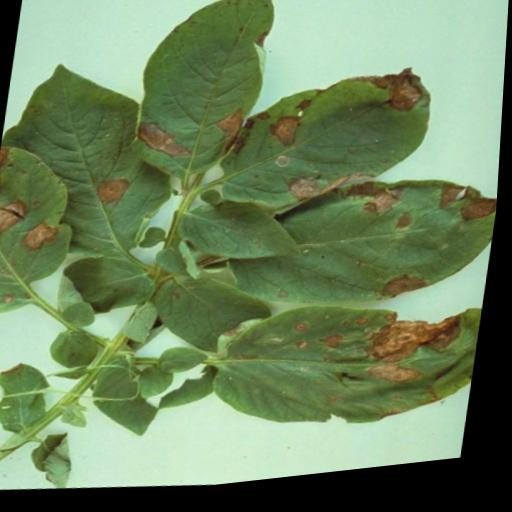Early Blight: (208, 289, 489, 458), (219, 172, 502, 338), (0, 49, 189, 274), (205, 53, 440, 233), (124, 0, 285, 197), (0, 136, 86, 326)
